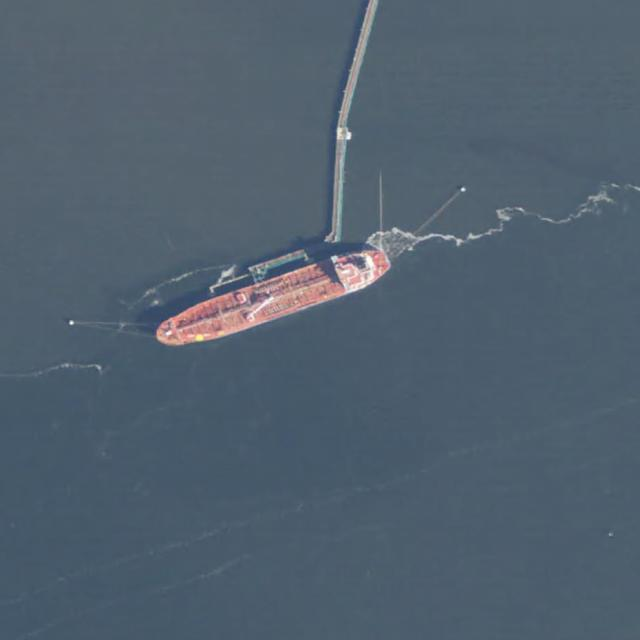Dock: (205, 236, 339, 298)
Oil Tanker: (146, 236, 401, 360)
